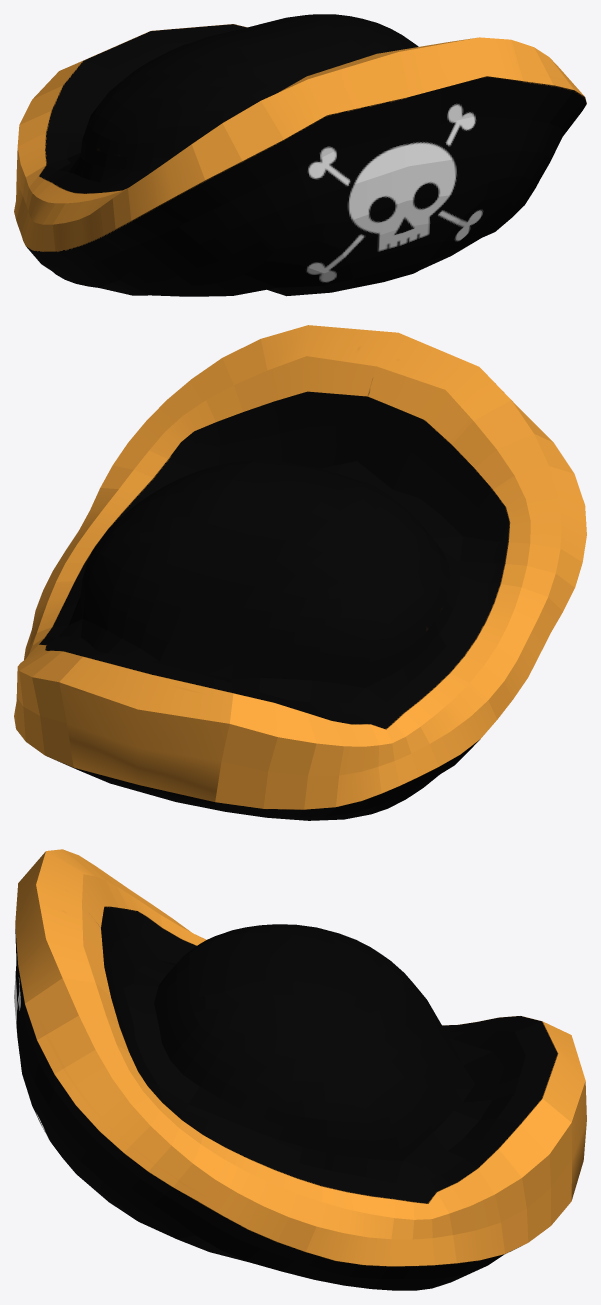
Rendered from GG_Character_PirateHatAccess.fbx.
The picture shows the model from 3 angles, top to bottom: view 1: azimuth 30°, elevation 25°; view 2: azimuth 150°, elevation 25°; view 3: azimuth 270°, elevation 25°; orthographic projection. The views are drawn at different scales.
Visible parts, largest first — view 1: pirateHat; view 2: pirateHat; view 3: pirateHat.
Part boxes in pixels (<box>): pirateHat: <box>14,14,586,296</box>; pirateHat: <box>14,325,586,820</box>; pirateHat: <box>14,849,586,1290</box>.
Bounding box in the file's own units: 1.64 × 1.08 × 1.67.
